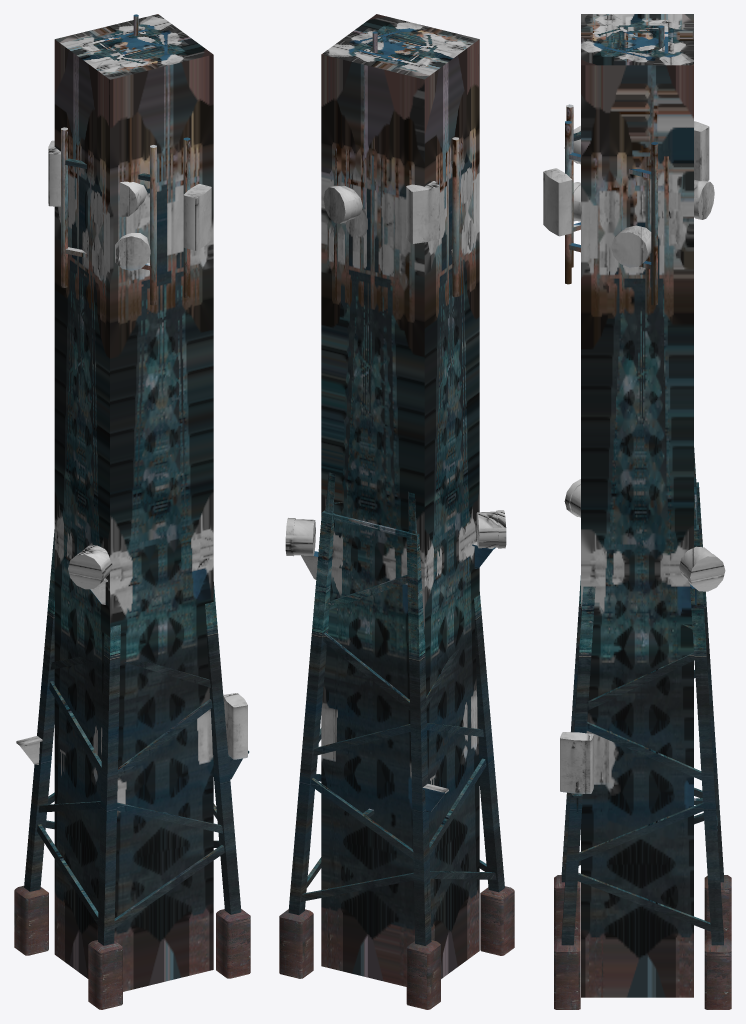
Rendered from dz_industrial_08.fbx.
The picture shows the model from 3 angles, left to right: view 1: azimuth 30°, elevation 25°; view 2: azimuth 150°, elevation 25°; view 3: azimuth 270°, elevation 25°; orthographic projection. The views are drawn at different scales.
Visible parts, largest first — view 1: dz_industrial_08_LOD0; view 2: dz_industrial_08_LOD0; view 3: dz_industrial_08_LOD0.
Boxes of the visible parts, <box> form: dz_industrial_08_LOD0: <box>14,14,250,1009</box>; dz_industrial_08_LOD0: <box>279,14,514,1009</box>; dz_industrial_08_LOD0: <box>543,14,731,1009</box>.
Size of what is drawn, in the model's own units: 4.65 by 24.06 by 4.31.
